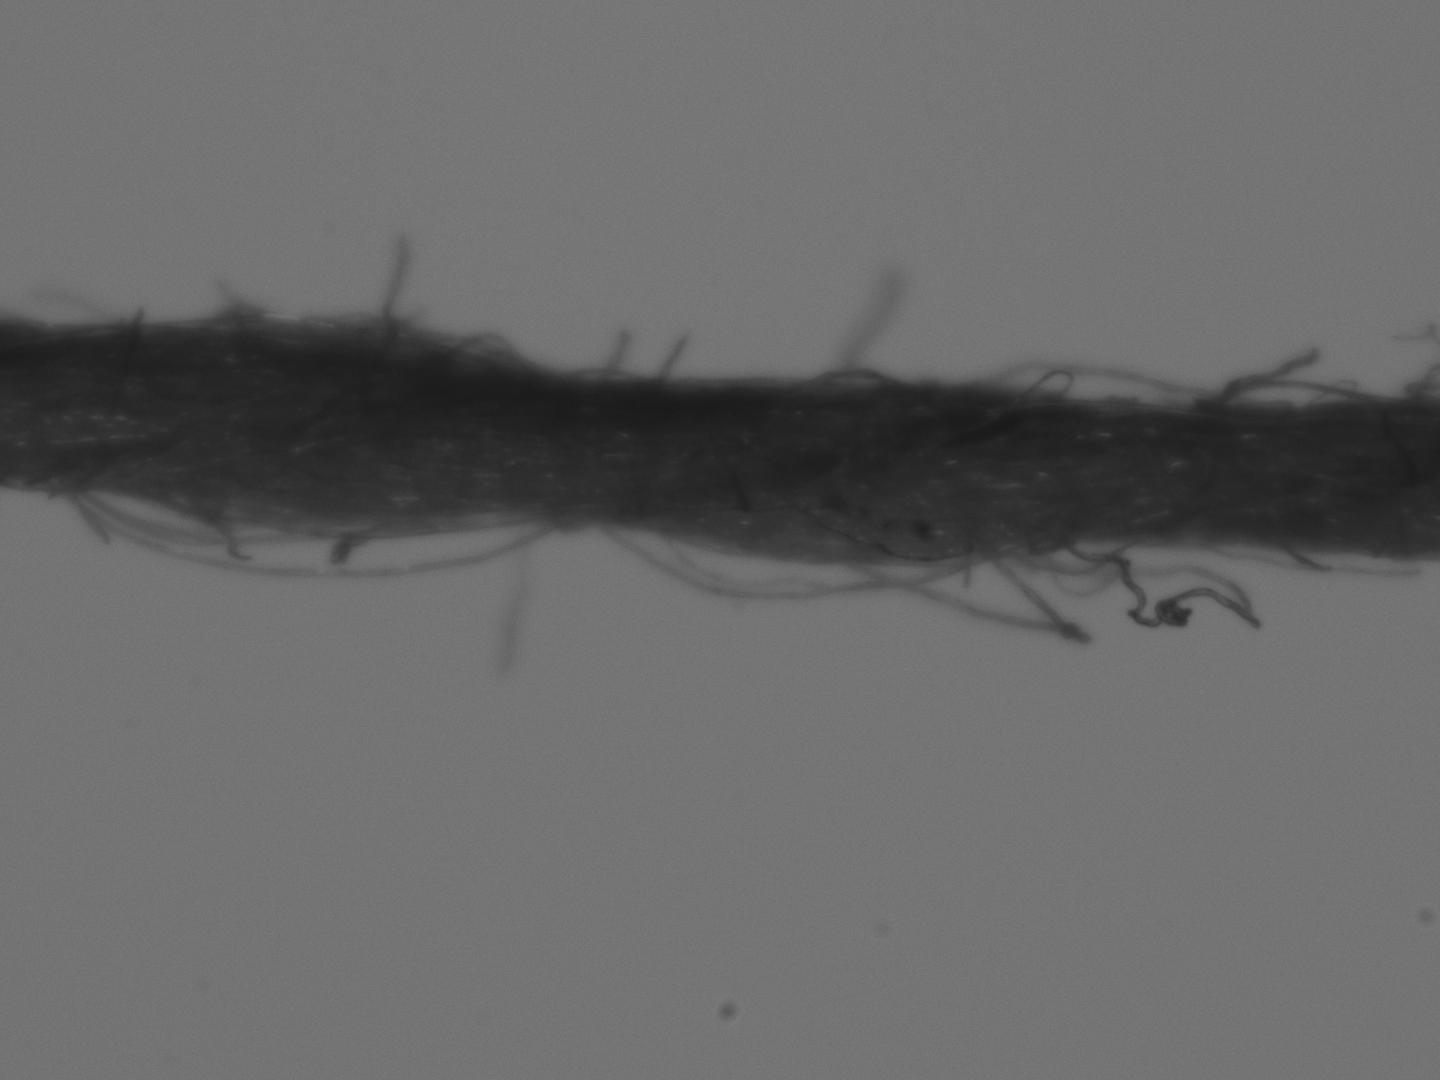loop_fiber: (592, 515, 1439, 648), (50, 488, 565, 585), (984, 327, 1439, 413), (192, 298, 528, 365), (785, 364, 905, 394), (564, 364, 661, 382)
protruding_fiber: (831, 269, 899, 383), (499, 507, 535, 666), (379, 227, 414, 339), (653, 329, 689, 385), (599, 324, 634, 373)
